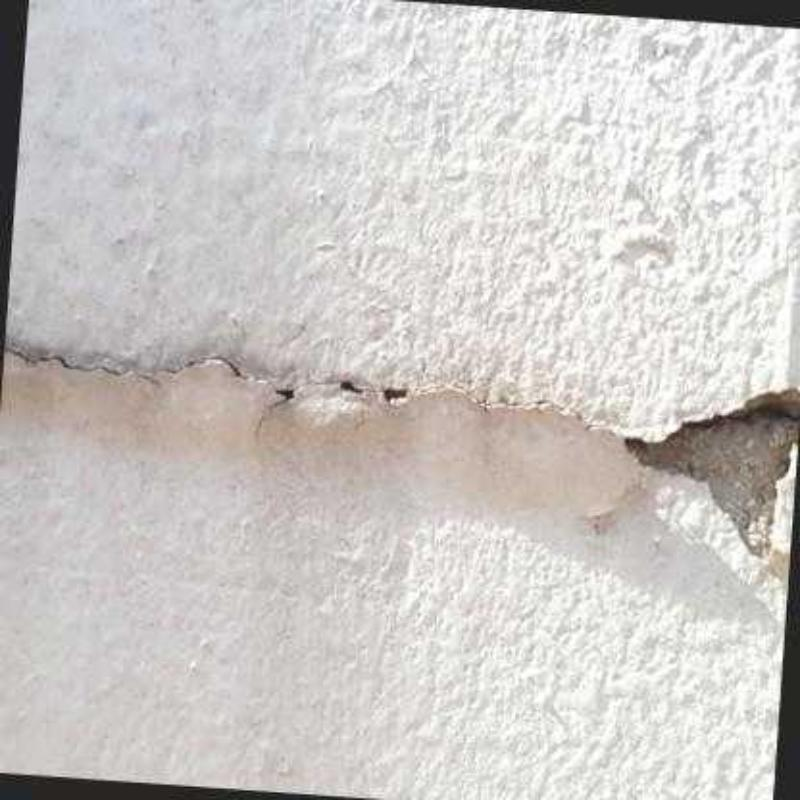crack: (2, 342, 628, 439), (627, 381, 798, 552)
